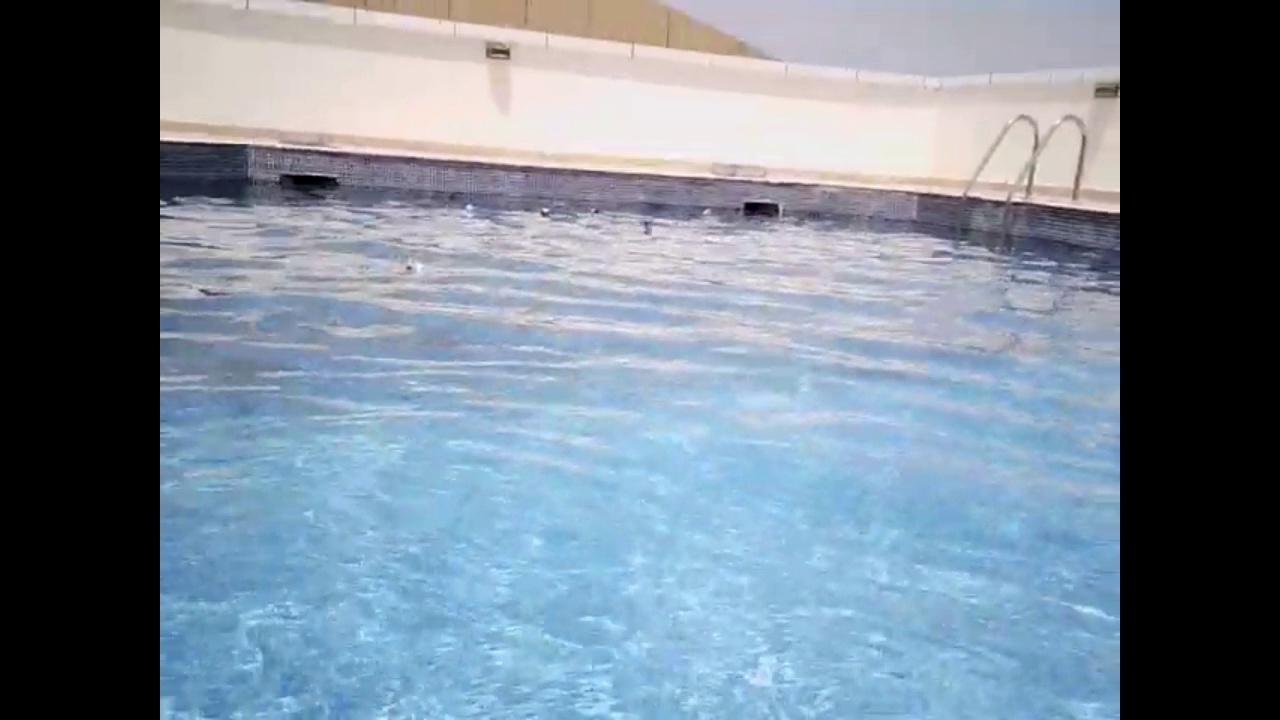debris: (398, 259, 426, 276), (582, 201, 606, 219), (536, 201, 558, 220), (463, 199, 477, 215), (642, 215, 654, 231), (699, 206, 713, 219)
